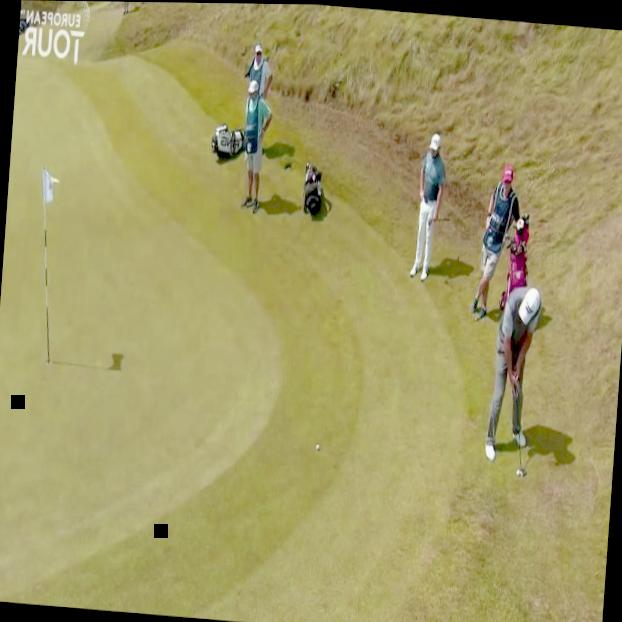GolfBall: (313, 438, 323, 453), (513, 461, 523, 476)
